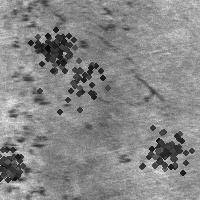rolled-in_scale: (2, 1, 54, 197), (30, 31, 118, 119), (49, 6, 131, 63), (129, 115, 195, 181), (27, 21, 77, 71), (0, 141, 27, 185)
